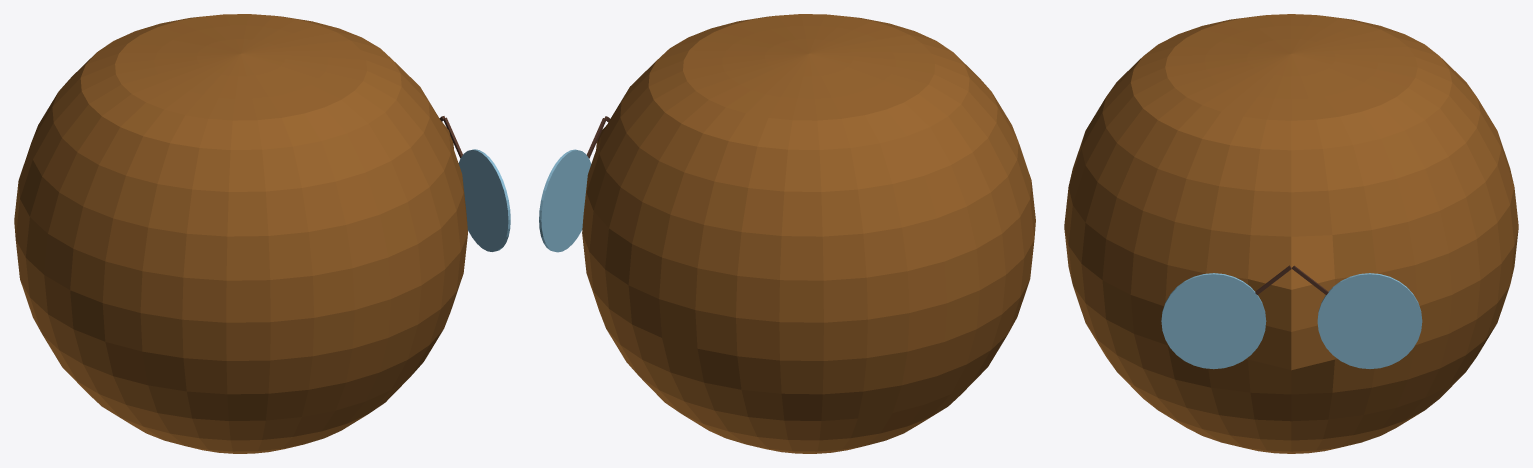
The model's file is Remus.fbx.
3 views of the same model, side by side, from view 1: azimuth 30°, elevation 25°; view 2: azimuth 150°, elevation 25°; view 3: azimuth 270°, elevation 25° (orthographic).
Visible parts, largest first — view 1: Brille; view 2: Brille; view 3: Brille.
Boxes of the visible parts, x1,y1,x2,y2 form: Brille: (14,14,510,453); Brille: (539,14,1035,453); Brille: (1064,14,1518,453).
Size of the model in its own units: 96.82 by 85.12 by 92.51.
